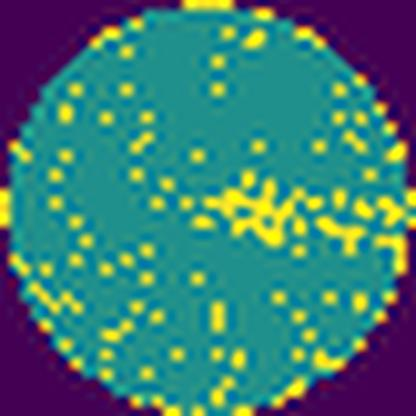Edge-Loc: (202, 174, 321, 247), (316, 214, 366, 254)
